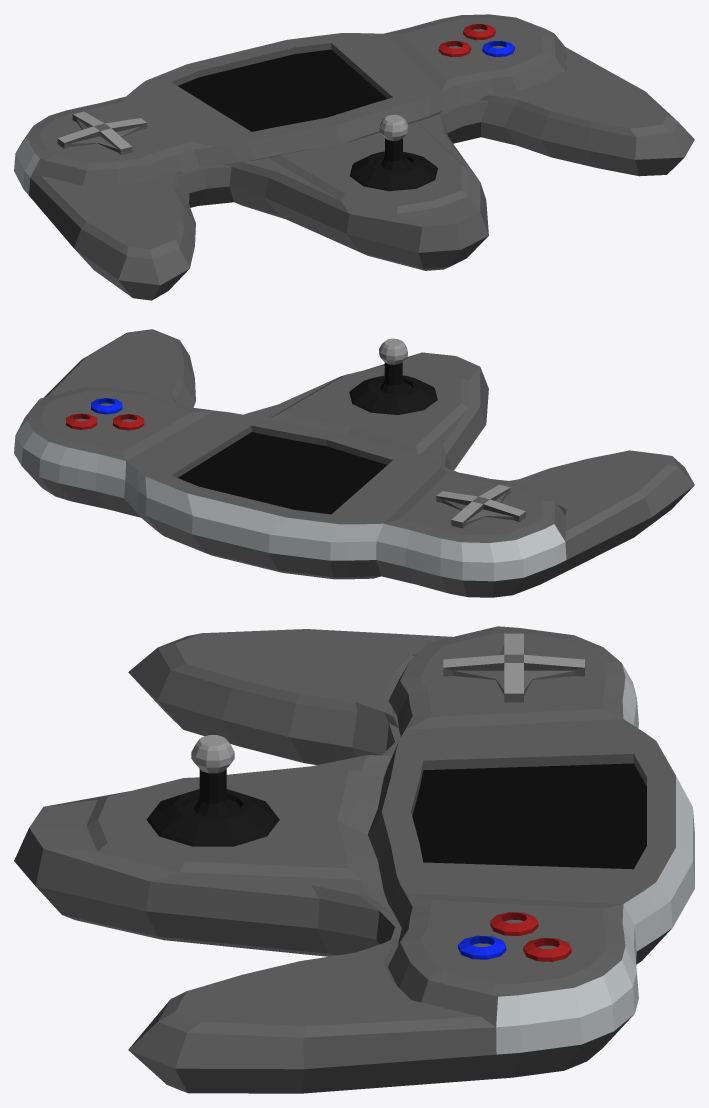
File: JoystickV3.fbx
3 views of the same model, one above another, from view 1: azimuth 30°, elevation 25°; view 2: azimuth 150°, elevation 25°; view 3: azimuth 270°, elevation 25° (orthographic). The views are drawn at different scales.
Parts seen in each view (by area): view 1: JoystickV3; view 2: JoystickV3; view 3: JoystickV3.
Part boxes in pixels (x1,y1,x2,y2): JoystickV3: [14, 14, 694, 300]; JoystickV3: [14, 329, 694, 597]; JoystickV3: [14, 626, 694, 1093].
Bounding box in the file's own units: 44.67 × 8.45 × 30.87.
